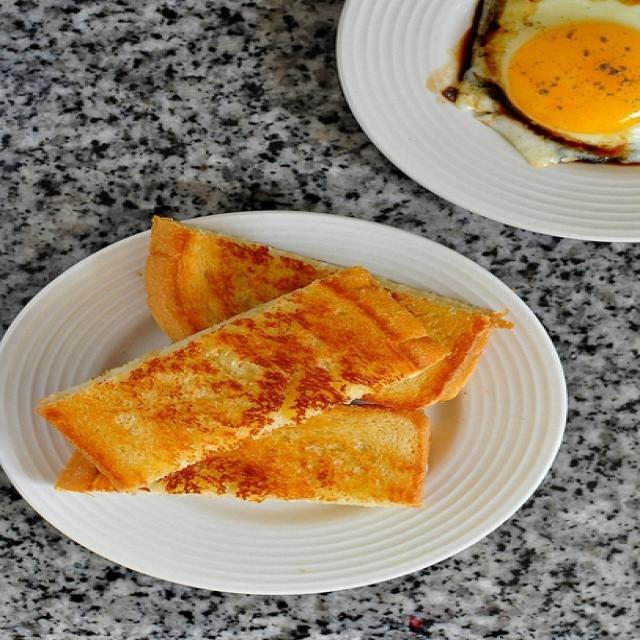面包点心: (52, 160, 538, 597)
